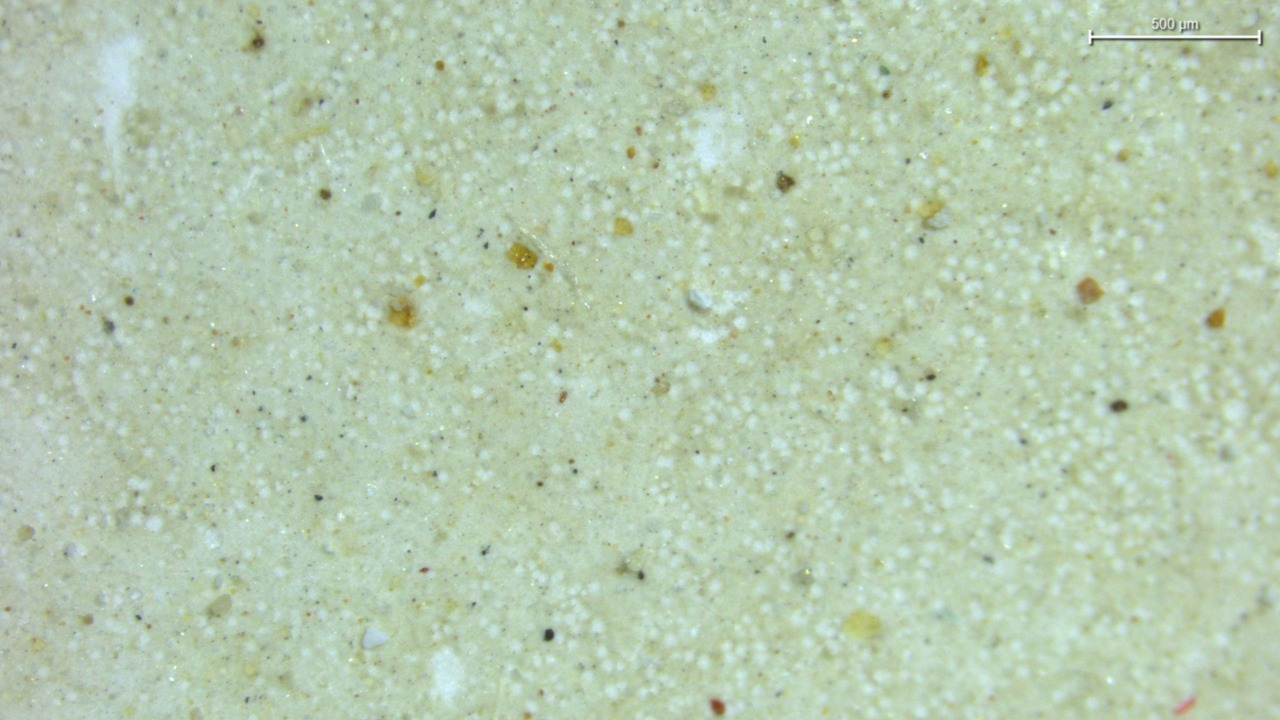microplastic_fragment: (687, 289, 713, 311), (362, 628, 389, 649)
